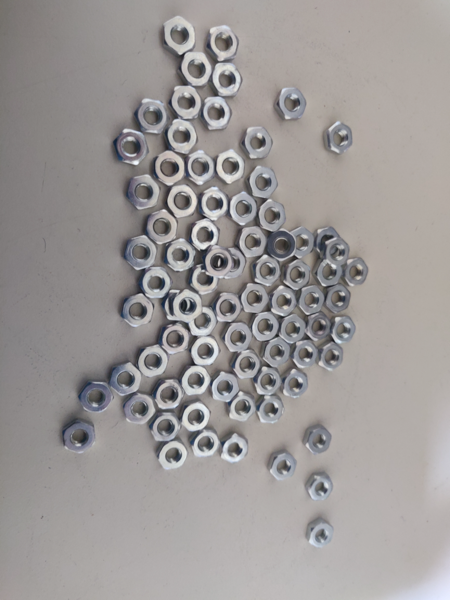nut: (160, 15, 197, 52), (112, 130, 149, 165), (206, 26, 241, 61), (124, 175, 159, 210), (144, 209, 178, 245), (77, 379, 115, 411), (61, 419, 96, 453), (163, 237, 197, 272), (178, 52, 212, 86), (120, 294, 154, 328), (122, 235, 156, 269), (165, 117, 198, 152), (241, 125, 273, 161), (121, 393, 156, 425), (212, 62, 243, 98), (108, 363, 142, 395), (147, 410, 179, 444), (136, 98, 167, 133), (198, 185, 229, 220), (138, 268, 173, 299), (276, 86, 306, 122), (173, 287, 202, 324), (171, 86, 204, 118), (166, 185, 198, 218), (152, 151, 185, 183), (154, 440, 188, 471), (215, 150, 246, 184), (204, 96, 232, 133), (136, 345, 167, 378), (186, 150, 215, 185), (302, 423, 333, 455), (247, 167, 279, 198), (235, 226, 266, 258), (180, 368, 212, 399), (225, 392, 256, 424), (228, 192, 258, 225), (254, 394, 284, 427), (323, 122, 352, 156), (219, 244, 247, 279), (305, 518, 336, 549), (256, 199, 286, 231), (184, 307, 216, 337), (189, 334, 218, 367), (163, 289, 191, 323), (305, 471, 335, 502), (239, 283, 270, 313), (181, 400, 211, 431), (191, 218, 220, 250), (220, 324, 252, 353), (192, 263, 220, 296), (154, 379, 184, 409), (269, 450, 298, 481), (210, 372, 239, 403), (232, 348, 261, 379), (262, 338, 291, 368), (221, 433, 249, 464), (212, 294, 243, 322), (317, 342, 345, 373), (278, 315, 307, 344), (282, 366, 308, 398), (253, 255, 281, 284), (160, 324, 188, 353), (291, 341, 321, 368), (193, 429, 219, 460), (289, 228, 315, 259), (271, 283, 296, 315), (254, 368, 282, 396), (343, 257, 369, 287), (298, 284, 324, 314), (251, 313, 279, 340), (269, 230, 296, 258), (313, 228, 341, 255), (284, 259, 310, 288), (326, 284, 352, 312), (324, 238, 350, 266), (208, 246, 233, 274), (316, 261, 343, 286), (332, 317, 356, 343), (307, 315, 332, 339)
